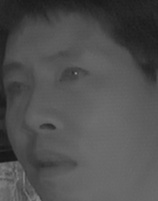eye: (55, 63, 92, 87), (2, 79, 31, 100)
mouth: (25, 146, 78, 180)
